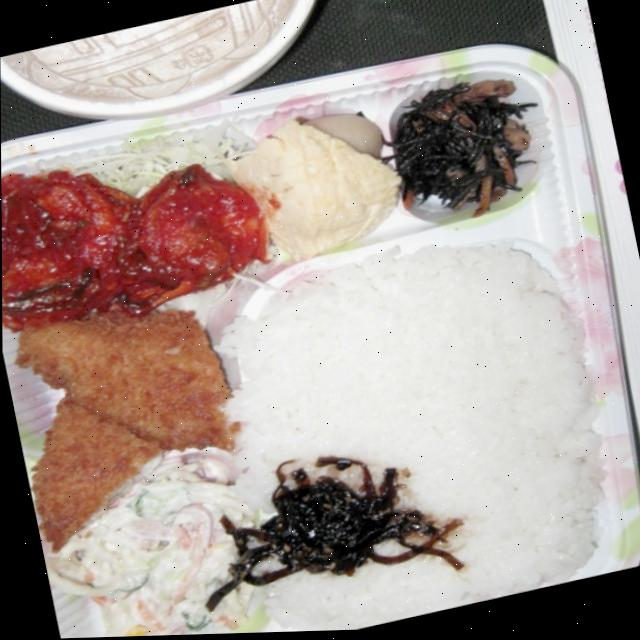炸货点心: (2, 282, 259, 541)
熟制海鲜: (2, 282, 259, 541)
